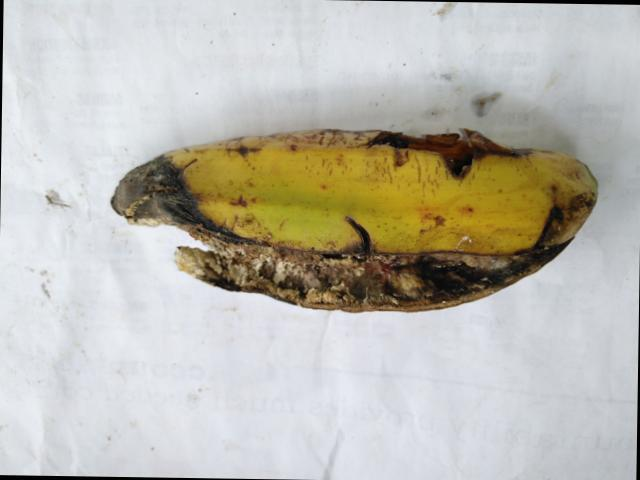rotten: (95, 109, 552, 313)
